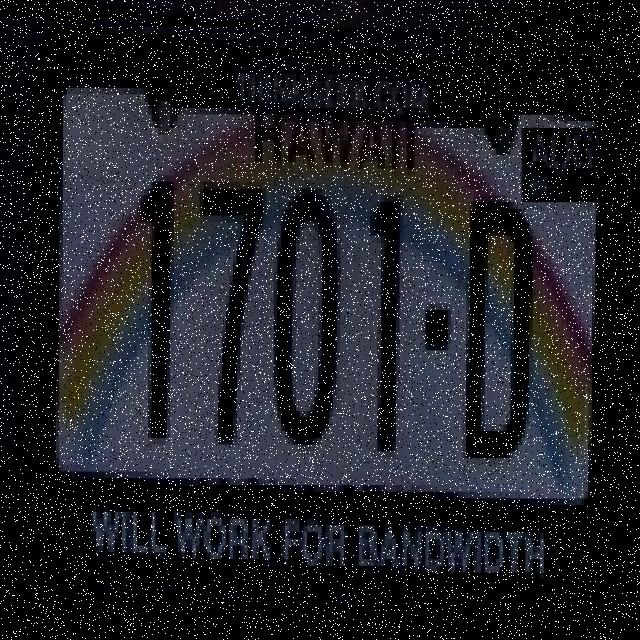licenseplate: (15, 15, 632, 624)
